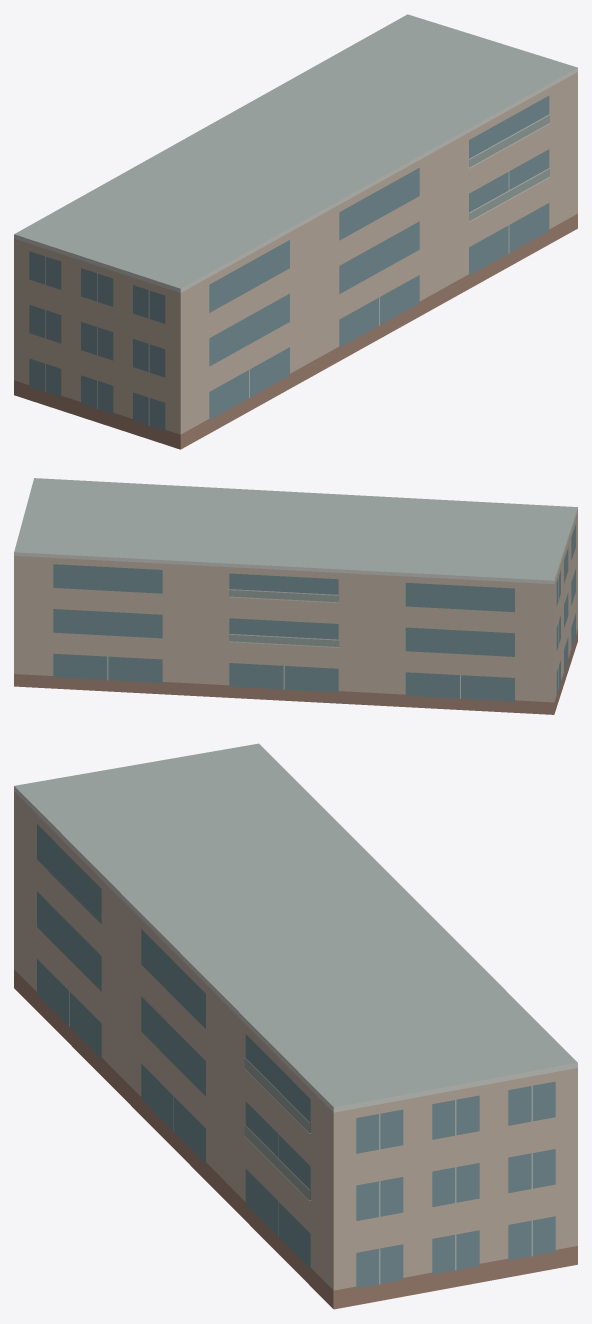
The model's file is survey-upis-32736848.glb.
The picture shows the model from 3 angles, top to bottom: view 1: azimuth 30°, elevation 25°; view 2: azimuth 150°, elevation 25°; view 3: azimuth 270°, elevation 25°; orthographic projection. The views are drawn at different scales.
Visible parts, largest first — view 1: survey-upis-32736848.tmp; view 2: survey-upis-32736848.tmp; view 3: survey-upis-32736848.tmp.
Part boxes in pixels (left/top/right/bottom): survey-upis-32736848.tmp: left=14, top=14, right=577, bottom=449; survey-upis-32736848.tmp: left=14, top=478, right=577, bottom=714; survey-upis-32736848.tmp: left=14, top=743, right=577, bottom=1309.
Bounding box in the file's own units: 35.33 × 9.15 × 23.14.
